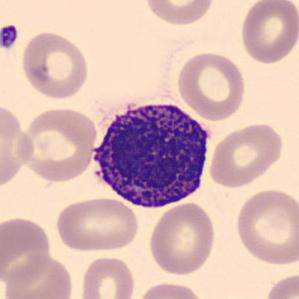Basophil: (86, 92, 214, 212)
Platelets: (0, 23, 20, 51)
RBC: (16, 104, 98, 184), (146, 200, 218, 277), (206, 120, 286, 189), (232, 186, 298, 267), (52, 194, 141, 254), (174, 49, 248, 121), (19, 28, 91, 100), (237, 0, 298, 65), (0, 214, 53, 287), (1, 252, 75, 299), (0, 100, 36, 192), (78, 254, 137, 299), (142, 0, 216, 26), (134, 280, 208, 299), (261, 270, 299, 299)
